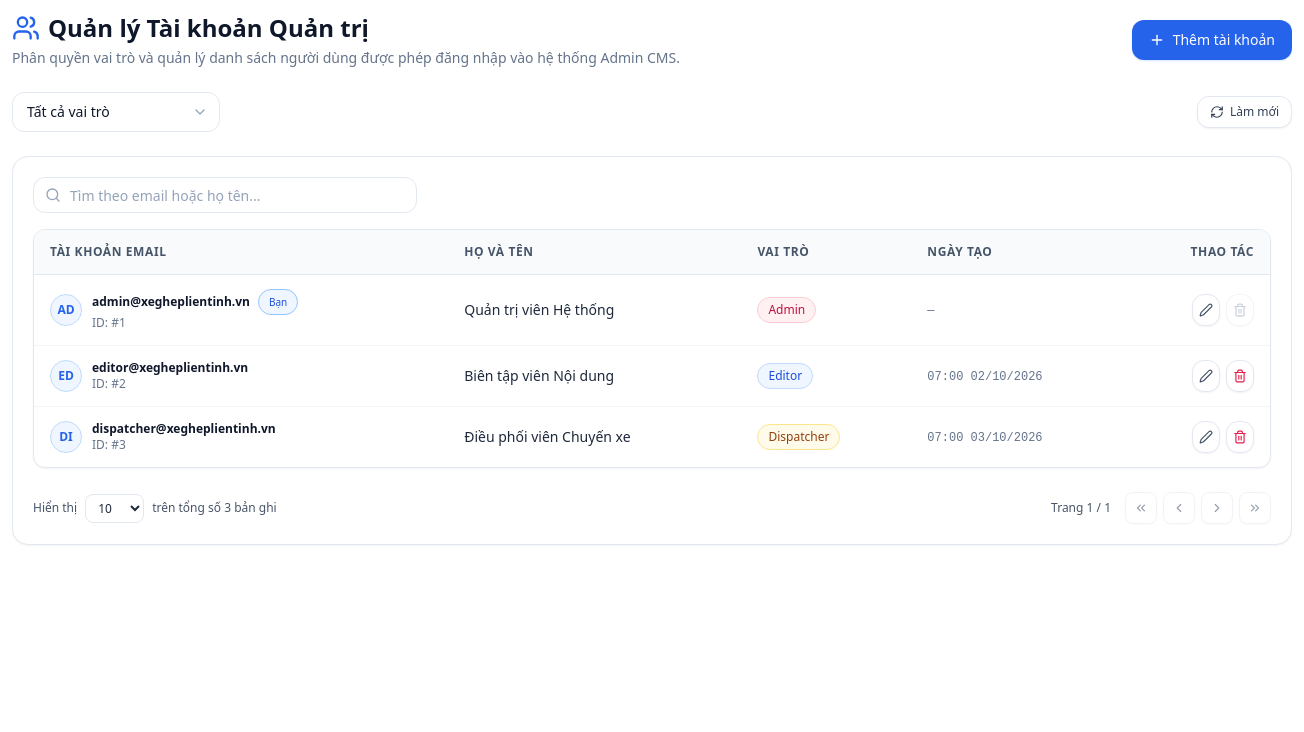
Scenario: Users Module (Task T120 - Chỉ Admin) › UserList Component › lọc danh sách tài khoản theo vai trò (Role)
Expected: the text "admin@xegheplientinh.vn" is shown, [92, 294, 250, 310]
Select "Dispatcher (Điều phối viên)" in the 1st dropdown showing "Tất cả vai trò": (116, 112) [12, 92, 220, 132]
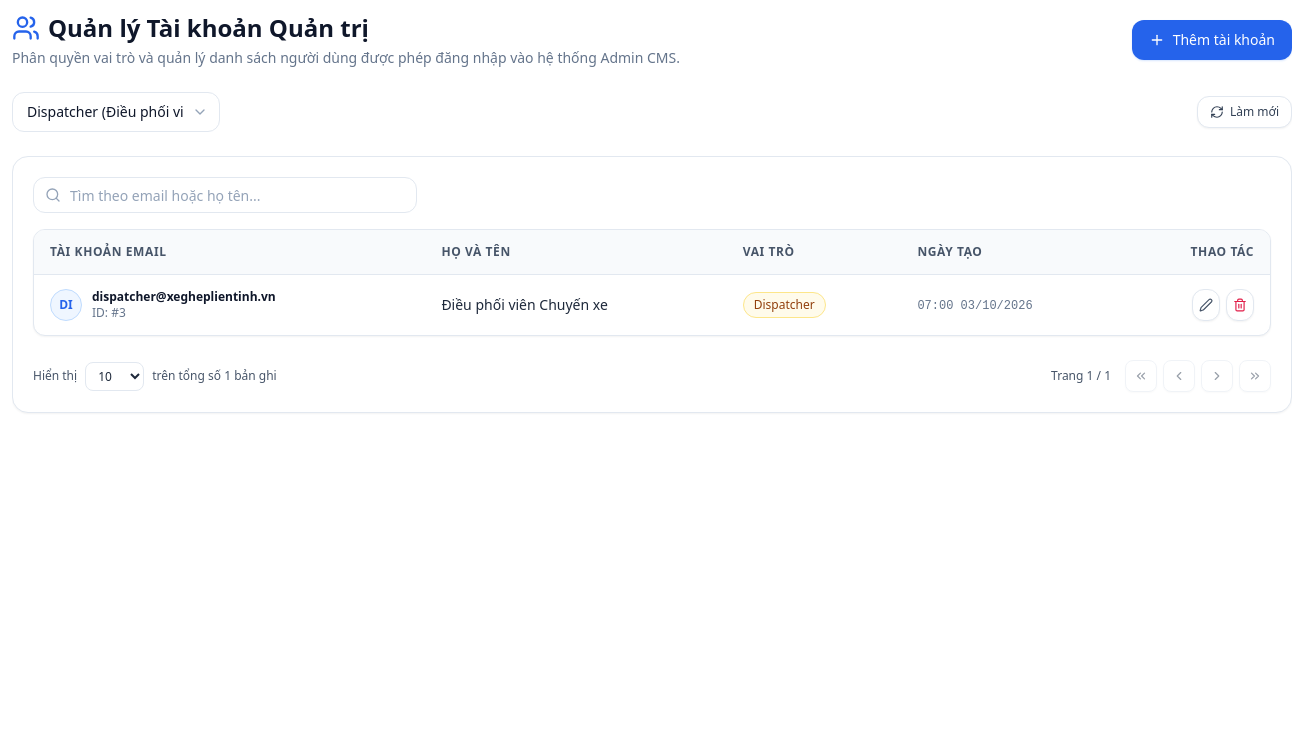
Expected: the text "dispatcher@xegheplientinh.vn" is shown, [92, 289, 276, 305]
Result: the text "editor@xegheplientinh.vn" is gone
Result: the text "admin@xegheplientinh.vn" is gone
